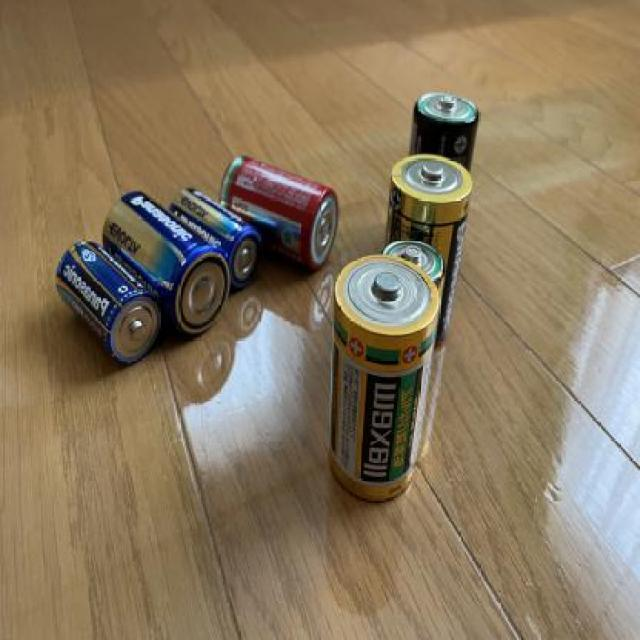hazardous waste: (328, 251, 444, 498), (98, 188, 234, 337), (382, 154, 476, 348), (214, 152, 340, 272), (52, 237, 163, 366), (169, 184, 265, 290), (405, 89, 483, 182), (375, 234, 448, 331)
